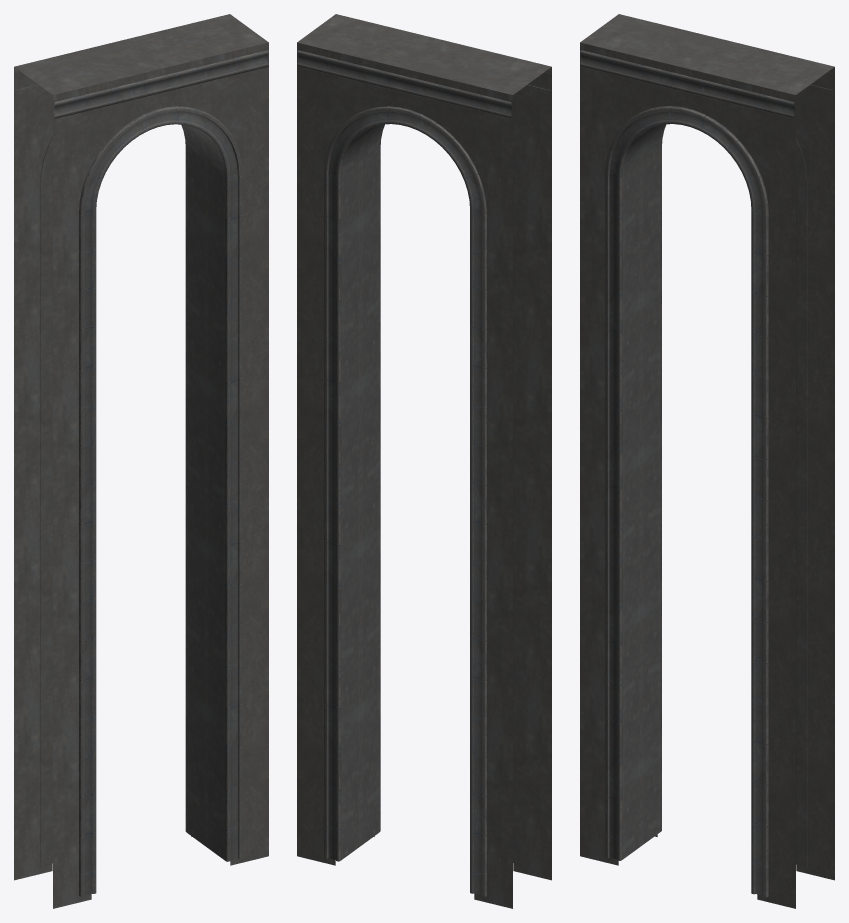
The model's file is arch.fbx.
3 views of the same model, side by side, from view 1: azimuth 30°, elevation 25°; view 2: azimuth 150°, elevation 25°; view 3: azimuth 330°, elevation 25° (orthographic).
Parts seen in each view (by area): view 1: Box047; view 2: Box047; view 3: Box047.
Part boxes in pixels (x1,y1,x2,y2): Box047: (14, 14, 268, 908); Box047: (297, 14, 551, 908); Box047: (580, 14, 834, 908).
Size of the model in its own units: 505 by 1817 by 169.
